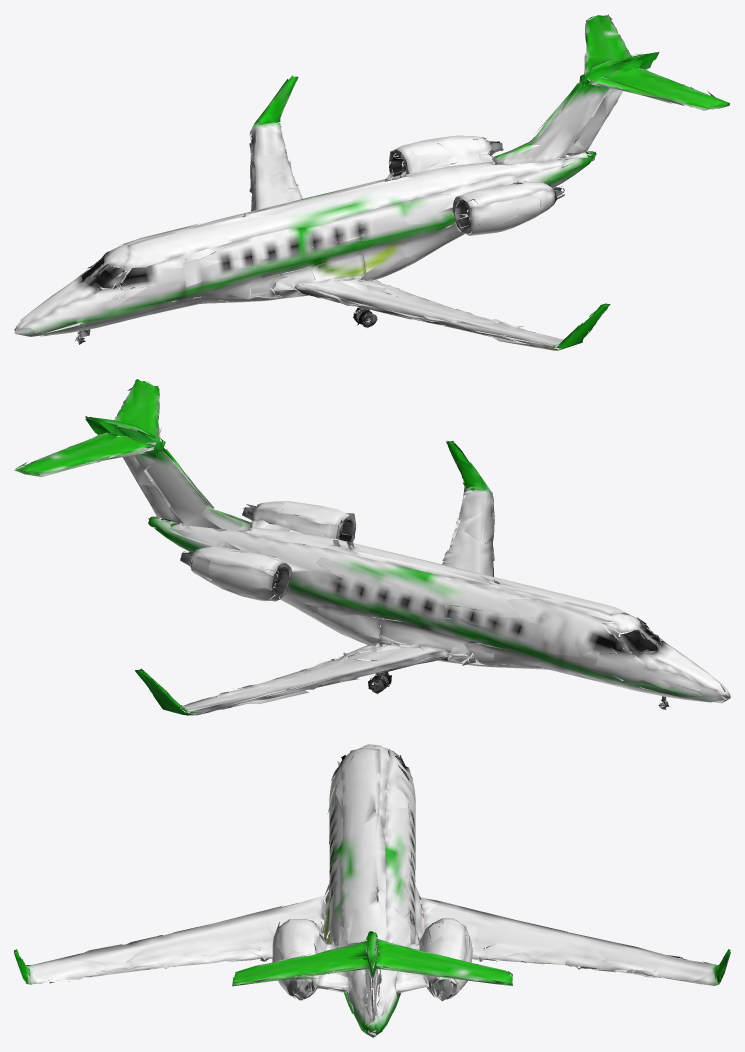
Rendered from gbjet.glb.
The picture shows the model from 3 angles, top to bottom: view 1: azimuth 30°, elevation 25°; view 2: azimuth 150°, elevation 25°; view 3: azimuth 270°, elevation 25°; orthographic projection. The views are drawn at different scales.
Visible parts, largest first — view 1: LO.001; view 2: LO.001; view 3: LO.001.
Part boxes in pixels (<box>): LO.001: <box>14,14,729,350</box>; LO.001: <box>14,379,730,715</box>; LO.001: <box>14,744,730,1037</box>.
Bounding box in the file's own units: 1.9 × 0.4869 × 1.57.
1 material, 1 textured.
